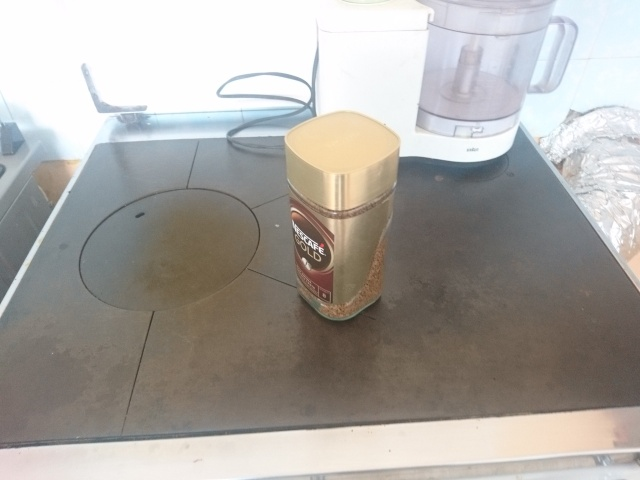Nescafe Gold 225g: (281, 108, 403, 324)
